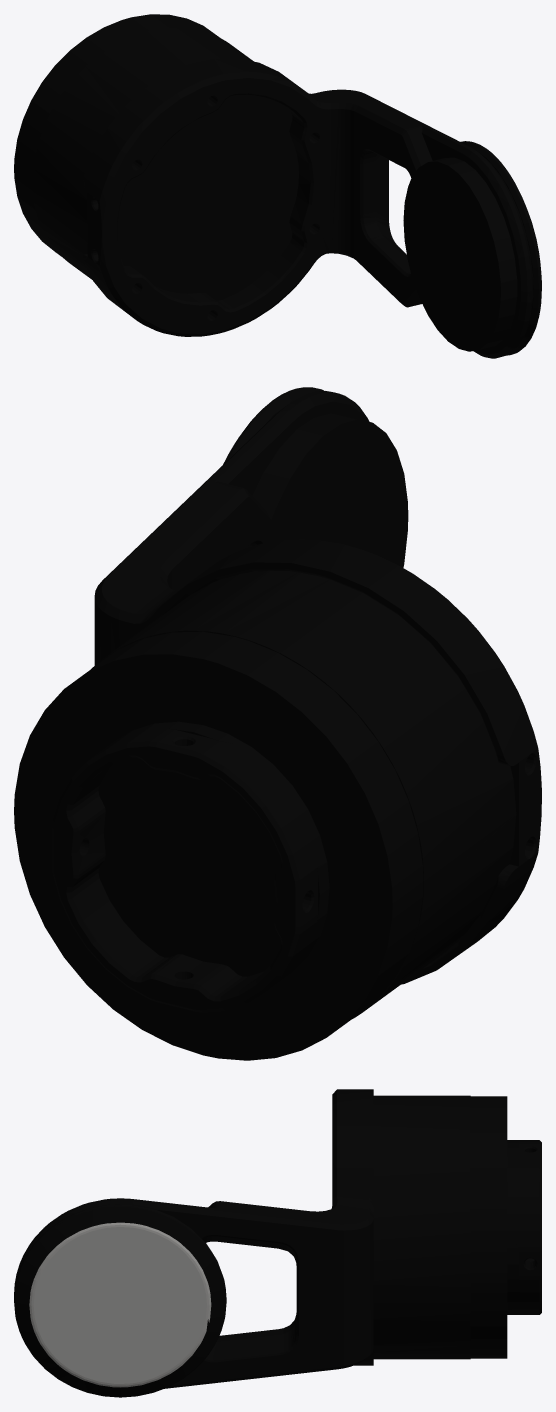
Rendered from left_arm_link7.obj.
The picture shows the model from 3 angles, top to bottom: view 1: azimuth 30°, elevation 25°; view 2: azimuth 150°, elevation 25°; view 3: azimuth 270°, elevation 25°; orthographic projection. The views are drawn at different scales.
Visible parts, largest first — view 1: left_arm_link7; view 2: left_arm_link7; view 3: left_arm_link7.
Boxes of the visible parts, x1,y1,x2,y2 form: left_arm_link7: (14,14,541,358); left_arm_link7: (14,387,541,1060); left_arm_link7: (14,1089,541,1397).
Bounding box in the file's own units: 0.069 × 0.06 × 0.1146.
1 material, 1 textured.
